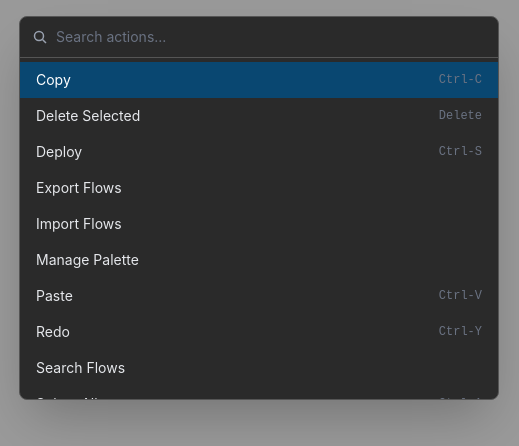
Test: ActionList › filtering › matches against action ID as well as name
This screenshot has width=519, height=446.
Type "toggle" into the field with test id "action-list-input" at (271, 37), box [56,17,486,57]
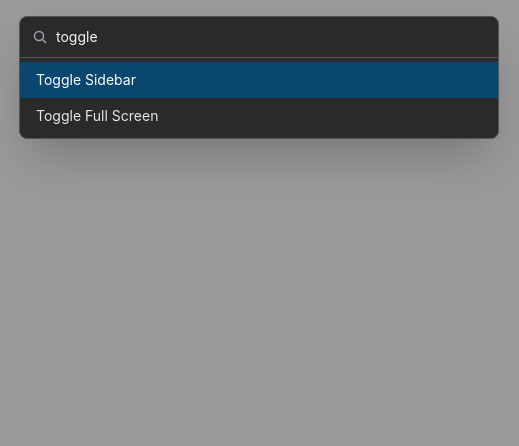
Check: the text "Toggle Sidebar" is shown, box [36,70,136,90]
Check: the text "Toggle Full Screen" is shown, box [36,106,158,126]
